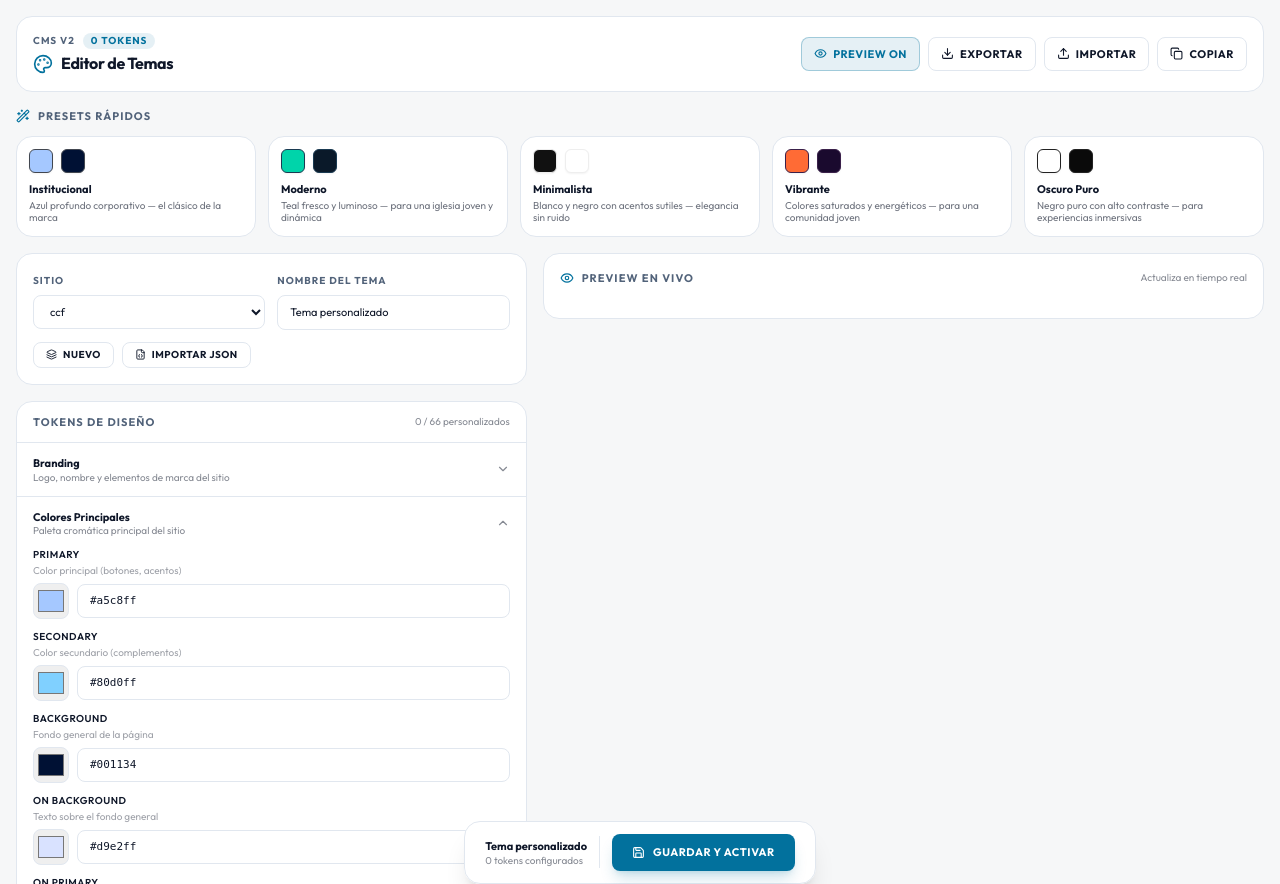
Test: CmsThemesPage › copia los tokens al portapapeles
The image size is (1280, 884).
Click the button "Copiar" at coordinates (1202, 54), box x1=1157 y1=36 x2=1247 y2=71
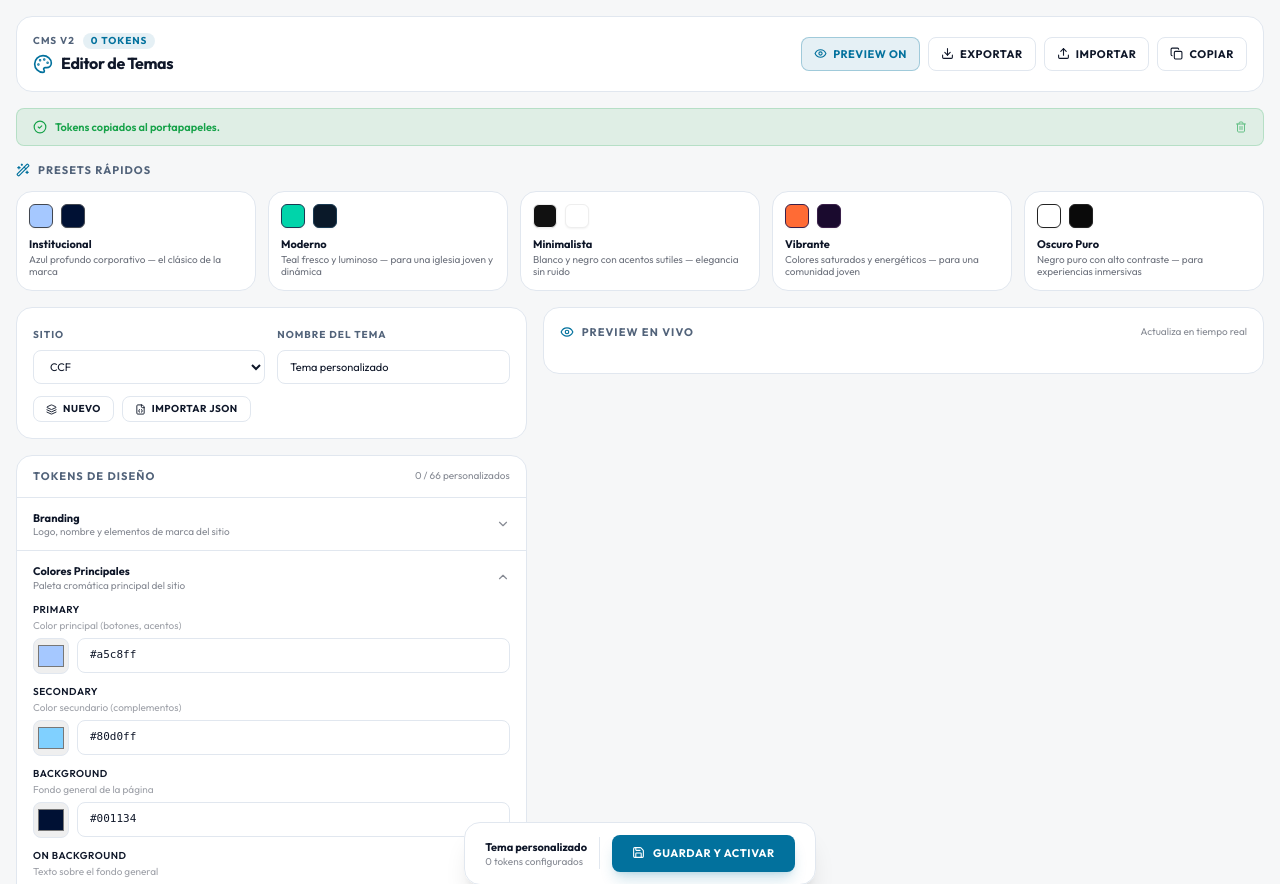
Now the text "Tokens copiados al portapapeles." is shown, box x1=16 y1=108 x2=1264 y2=146
